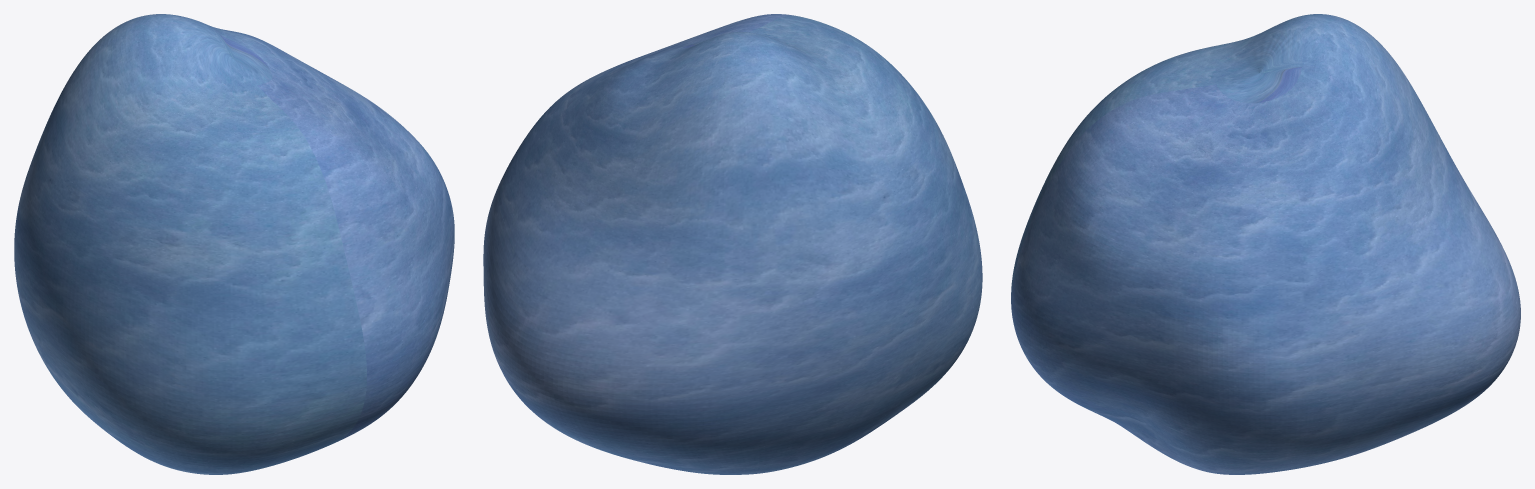
The model's file is Asteroid_2-2.fbx.
3 renders of one model, left to right at view 1: azimuth 30°, elevation 25°; view 2: azimuth 150°, elevation 25°; view 3: azimuth 270°, elevation 25°, orthographic. The views are drawn at different scales.
Visible parts, largest first — view 1: Asteroid_2-2; view 2: Asteroid_2-2; view 3: Asteroid_2-2.
Part boxes in pixels (x1,y1,x2,y2): Asteroid_2-2: [14, 14, 454, 474]; Asteroid_2-2: [483, 14, 982, 474]; Asteroid_2-2: [1011, 14, 1520, 474].
Bounding box in the file's own units: 2 × 2.23 × 1.94.
1 material, 1 textured.
